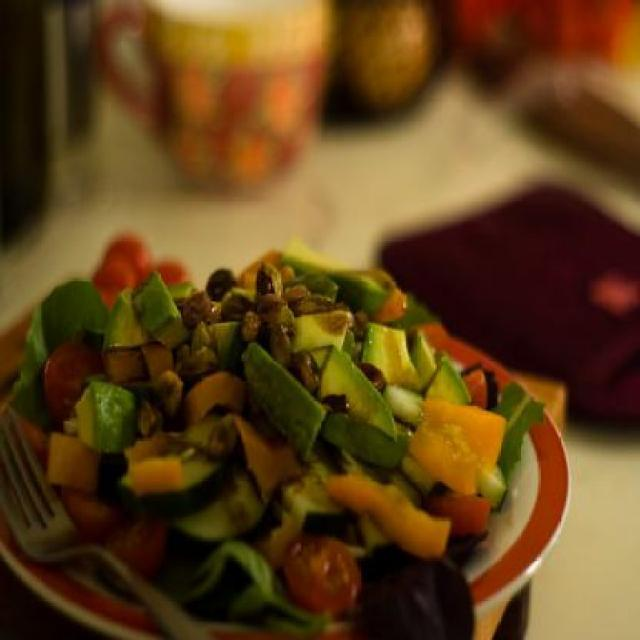Salad: (0, 224, 583, 630)
